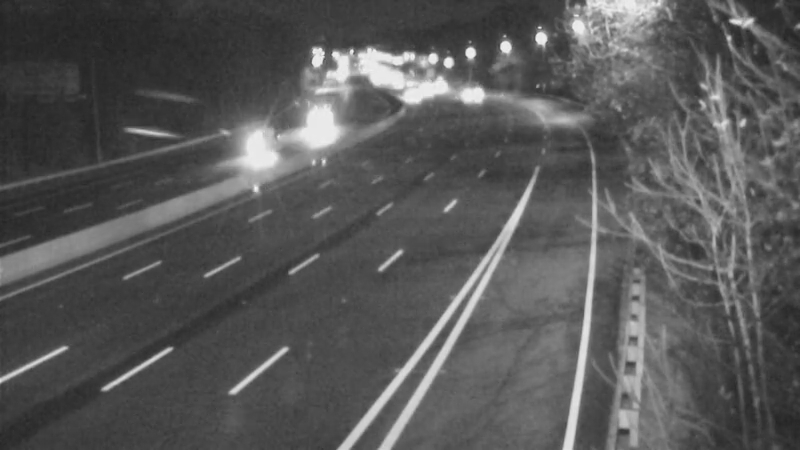vehicle: (391, 67, 441, 117), (438, 71, 488, 121), (256, 125, 306, 175), (293, 99, 343, 149)
